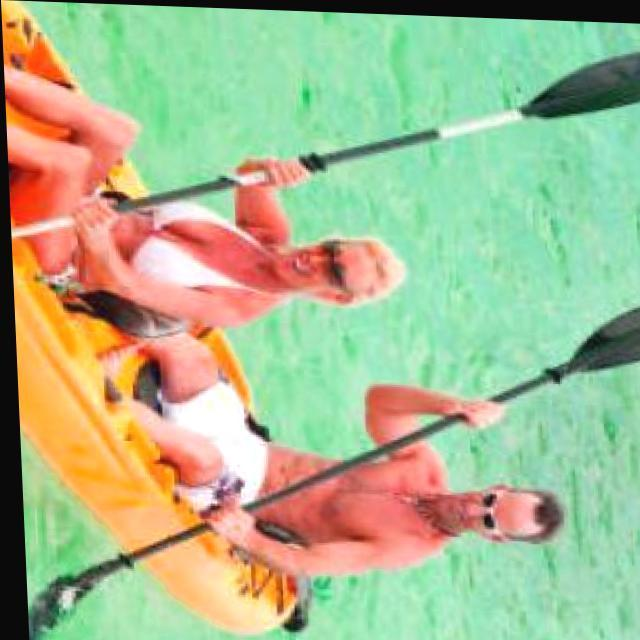kayak: (8, 239, 195, 549), (145, 535, 290, 631)
